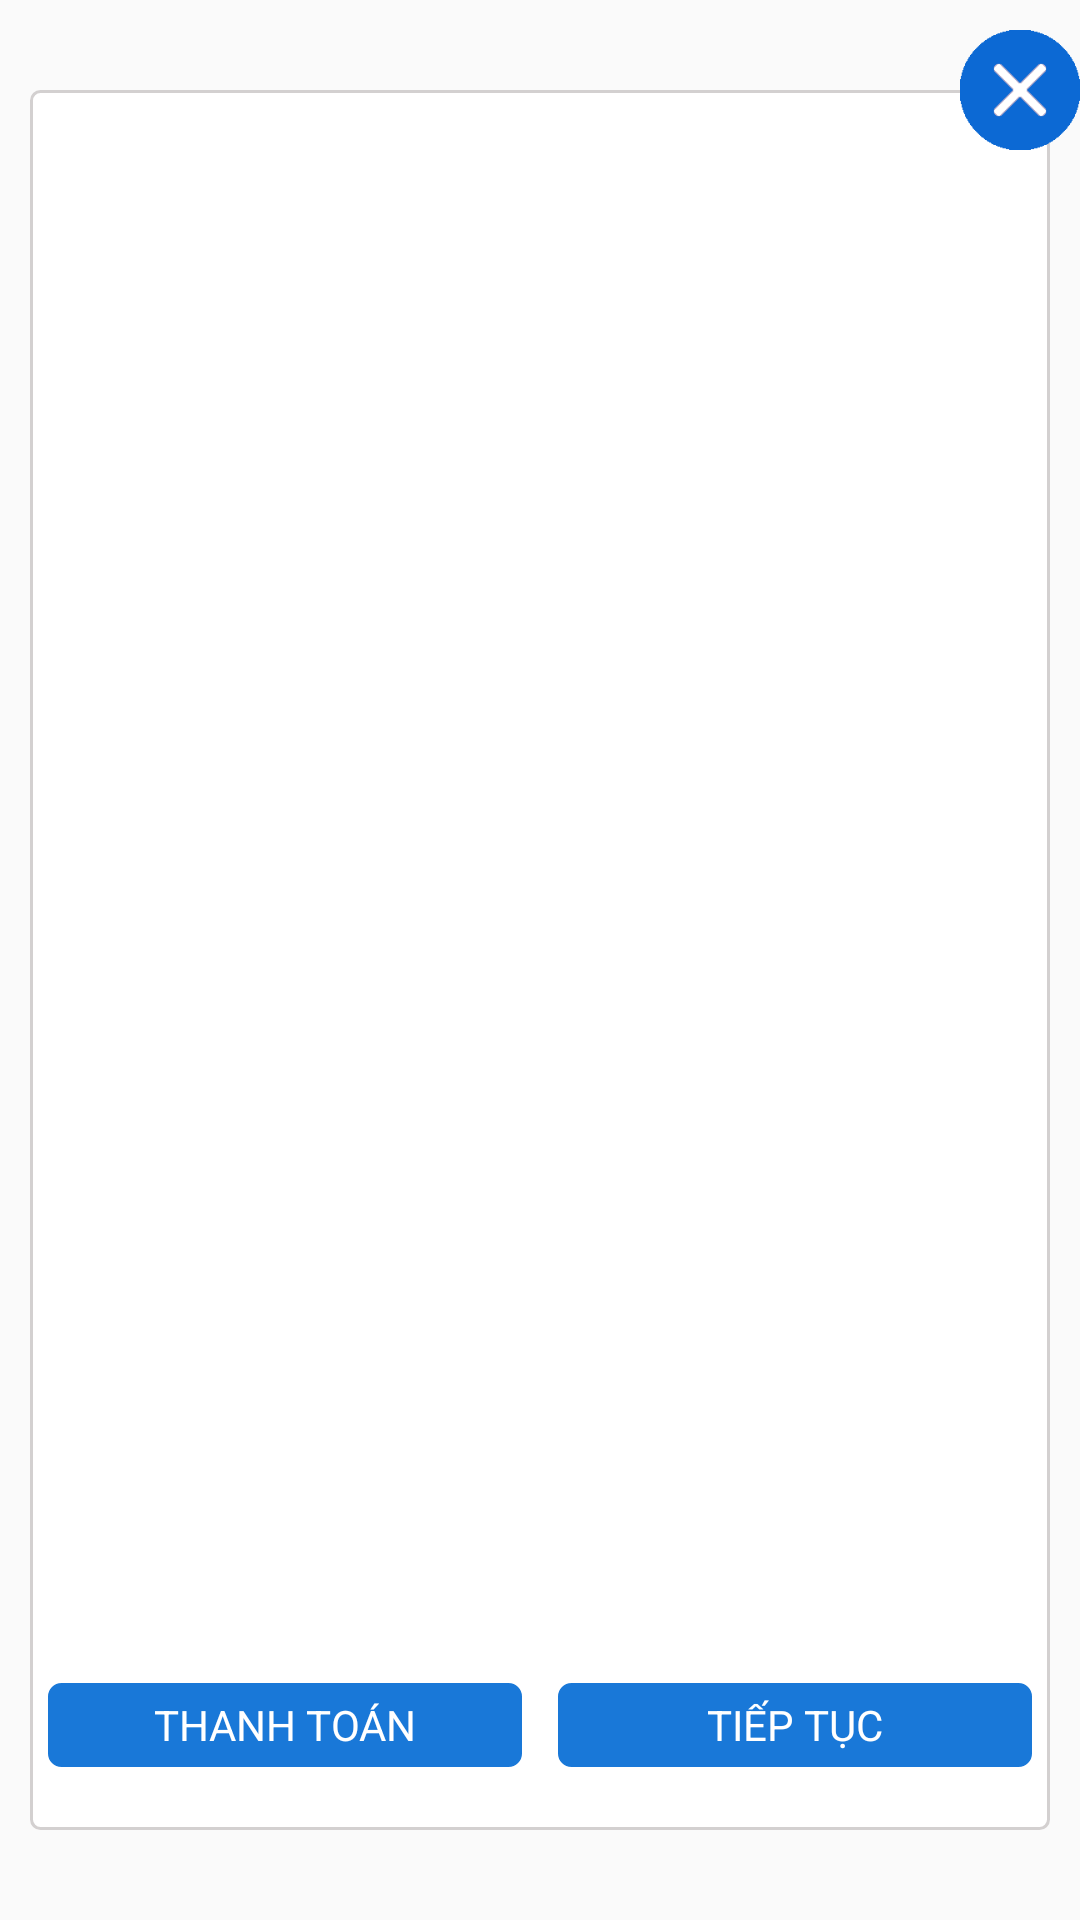

Named icons in this screenshot (1080 × 1920) and their bounding boxes, (x1, y1, x2, y2):
close popup: (960, 30, 1080, 150)
